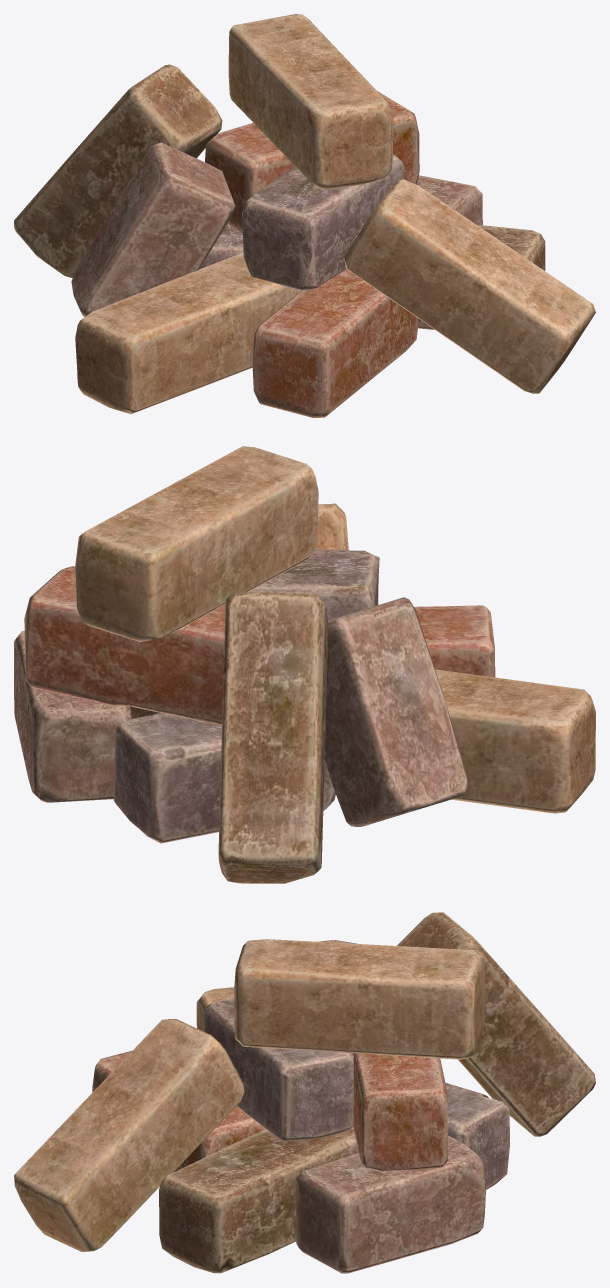
The picture shows the model from 3 angles, top to bottom: view 1: azimuth 30°, elevation 25°; view 2: azimuth 150°, elevation 25°; view 3: azimuth 270°, elevation 25°; orthographic projection. The views are drawn at different scales.
Parts seen in each view (by area): view 1: SM_Human_Ruins_Brick_Dmg_10_LOD0; view 2: SM_Human_Ruins_Brick_Dmg_10_LOD0; view 3: SM_Human_Ruins_Brick_Dmg_10_LOD0.
Part boxes in pixels (x1,y1,x2,y2): SM_Human_Ruins_Brick_Dmg_10_LOD0: [14, 14, 595, 417]; SM_Human_Ruins_Brick_Dmg_10_LOD0: [14, 446, 595, 883]; SM_Human_Ruins_Brick_Dmg_10_LOD0: [14, 912, 595, 1273].
Bounding box in the file's own units: 0.7468 × 0.3828 × 0.8413.
1 material, 1 textured.
